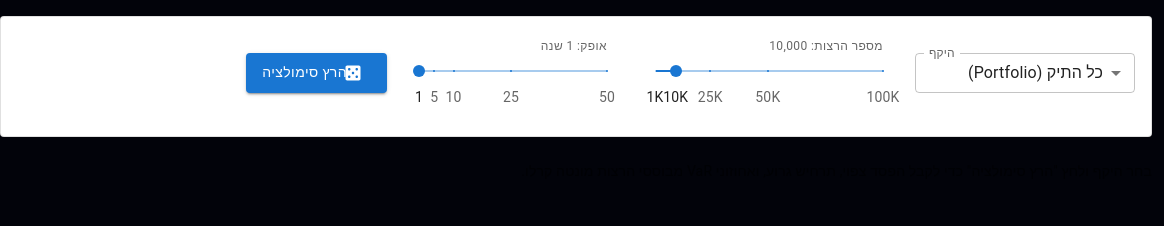
Simulation › shows an error alert when the simulation query fails
Click the button "הרץ סימולציה" at (317, 73), box [246,53,387,93]
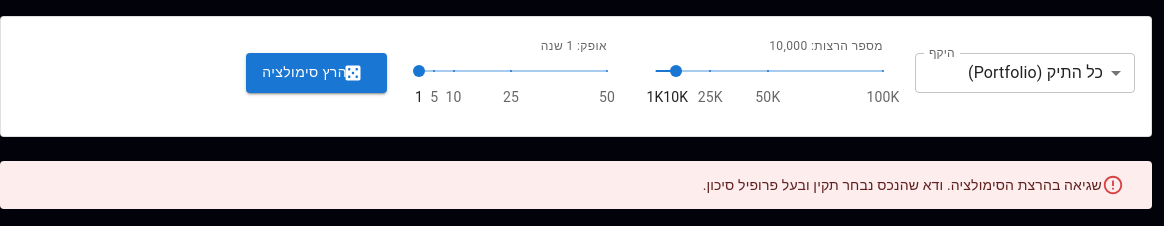
Now the text "שגיאה בהרצת הסימולציה" is shown, box [703,177,1102,193]
